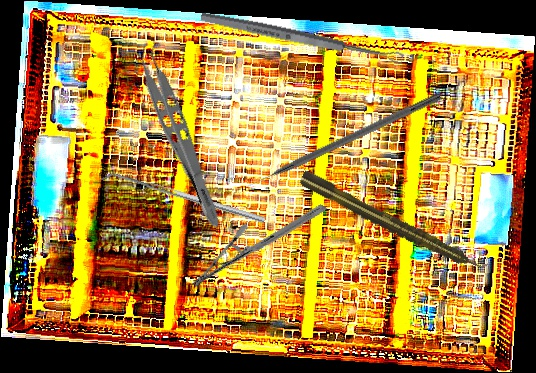Handpiece: (297, 168, 490, 279)
Hook Surgical: (240, 90, 443, 193)
Needle Holder: (189, 167, 329, 325)
Spatula Surgical: (100, 168, 266, 229)
Surgical Spoon: (199, 9, 405, 67)
Tissue Forceps: (127, 37, 238, 231)
